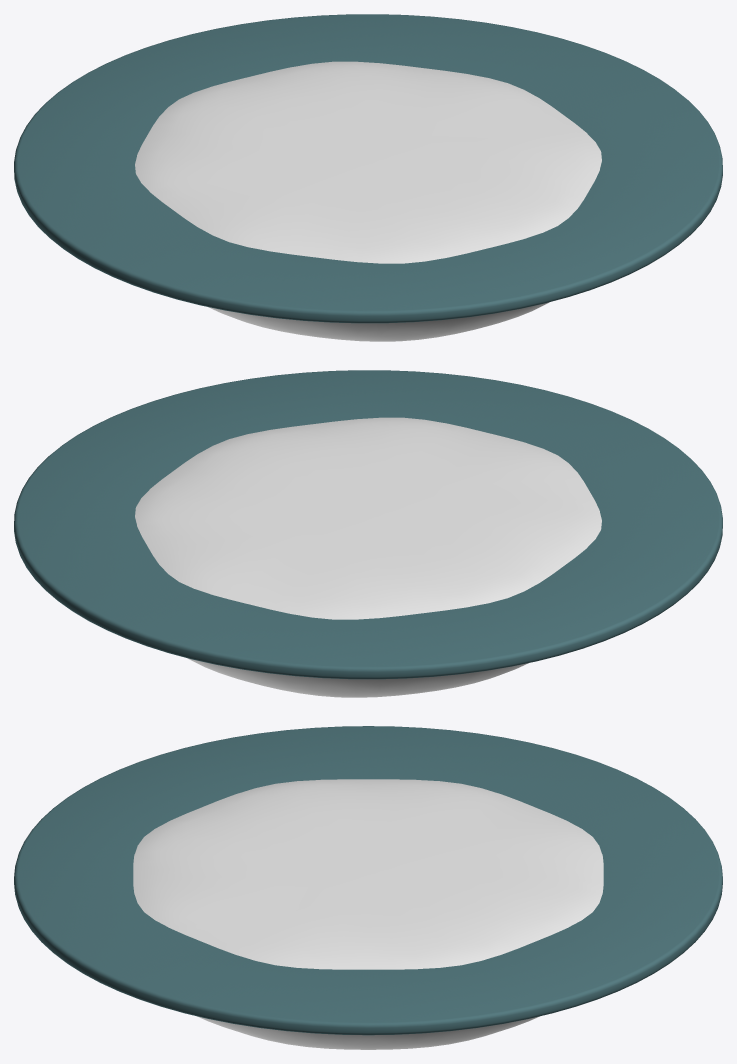
Rendered from Ceiling_ToiletLight.fbx.
The picture shows the model from 3 angles, top to bottom: view 1: azimuth 30°, elevation 25°; view 2: azimuth 150°, elevation 25°; view 3: azimuth 270°, elevation 25°; orthographic projection.
Parts seen in each view (by area): view 1: Base, Casing; view 2: Base, Casing; view 3: Base, Casing.
Part boxes in pixels (x1,y1,x2,y2): Base: (14,14,722,323); Casing: (135,61,601,341); Base: (14,370,722,679); Casing: (135,417,601,697); Base: (14,726,722,1035); Casing: (133,779,603,1049).
Size of the model in its own units: 88 by 16.26 by 88.
Materials: 2 (1 with a texture image).
